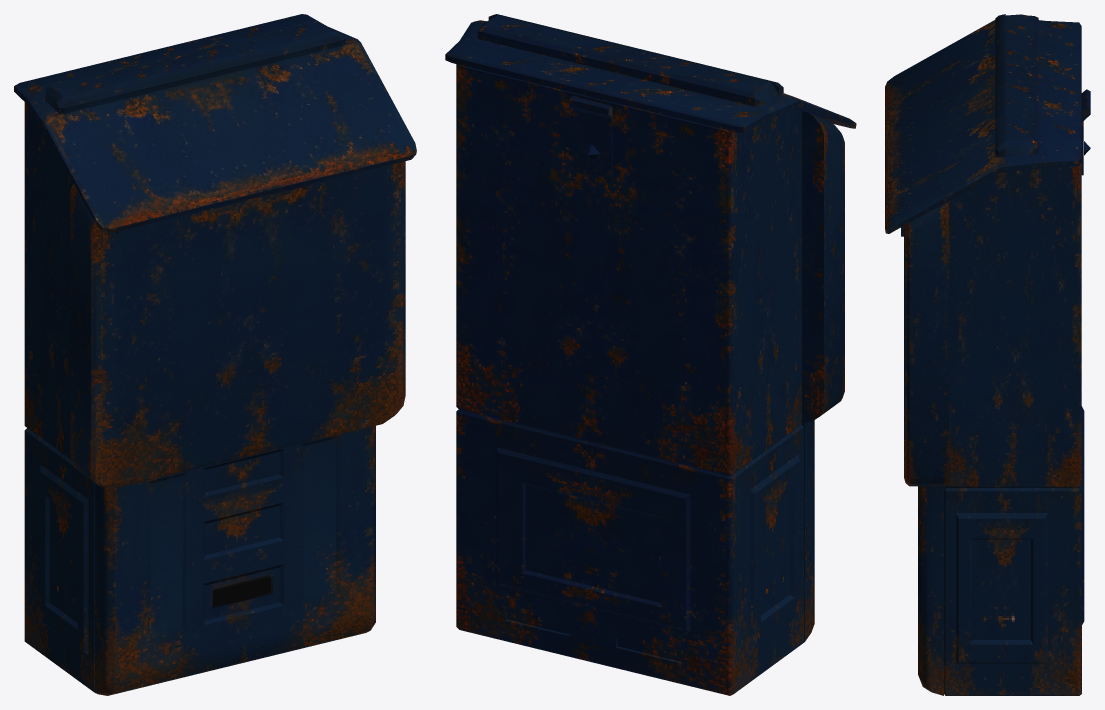
File: mailbox_lp_textured.glb
3 renders of one model, left to right at view 1: azimuth 30°, elevation 25°; view 2: azimuth 150°, elevation 25°; view 3: azimuth 270°, elevation 25°, orthographic. The views are drawn at different scales.
Parts seen in each view (by area): view 1: texture_pbr_v128; view 2: texture_pbr_v128; view 3: texture_pbr_v128.
Part boxes in pixels (<box>): texture_pbr_v128: <box>14,14,416,695</box>; texture_pbr_v128: <box>445,14,856,695</box>; texture_pbr_v128: <box>885,14,1090,695</box>.
Bounding box in the file's own units: 0.577 × 0.9947 × 0.3339.
Materials: 1 (1 with a texture image).
